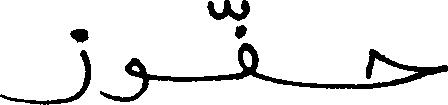X: (0, 24, 89, 104), (368, 44, 447, 93), (103, 53, 147, 104), (239, 0, 256, 83)
